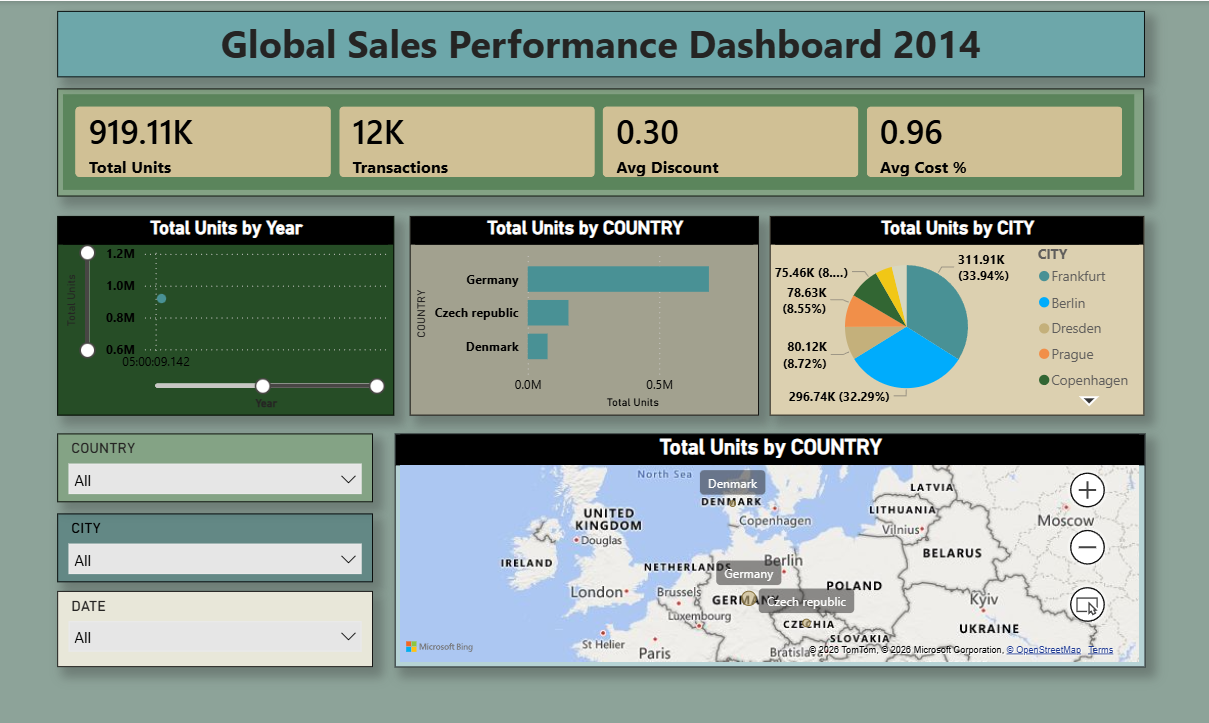

The dashboard page shown, as its layout file describes it:
{"tool":"powerbi","page":{"name":"Page 1","canvas":[1280,720],"ordinal":0},"visuals":[{"type":"cardVisual","fields":{"Data":["SALES_2014.Total Units","SALES_2014.Transactions","SALES_2014.Avg Discount","SALES_2014.Avg Cost %"]},"box":[104.3,85.1,1063.5,105.7],"z":0},{"type":"textbox","box":[103.9,9.8,1063.9,64.8],"z":1000},{"type":"lineChart","fields":{"Category":["SALES_2014.DATE.Variation.Date Hierarchy.Year","SALES_2014.DATE.Variation.Date Hierarchy.Quarter","SALES_2014.DATE.Variation.Date Hierarchy.Month","SALES_2014.DATE.Variation.Date Hierarchy.Day"],"Y":["SALES_2014.Total Units"]},"box":[104.3,209.9,329.3,194.9],"z":2000},{"type":"clusteredBarChart","fields":{"Category":["SALES_2014.COUNTRY"],"Y":["SALES_2014.Total Units"]},"box":[448.7,209.9,341.7,194.9],"z":3000},{"type":"pieChart","fields":{"Category":["SALES_2014.CITY"],"Y":["SALES_2014.Total Units"]},"box":[801.4,209.9,366.4,194.9],"z":4000},{"type":"slicer","fields":{"Values":["SALES_2014.COUNTRY"]},"box":[104.3,422.6,308.7,67.2],"z":5000},{"type":"slicer","fields":{"Values":["SALES_2014.CITY"]},"box":[104.3,500.9,308.7,67.2],"z":6000},{"type":"slicer","fields":{"Values":["SALES_2014.DATE"]},"box":[104.3,577.7,308.7,74.1],"z":7000},{"type":"map","fields":{"Category":["SALES_2014.COUNTRY"],"Size":["SALES_2014.Total Units"]},"box":[433.6,422.6,734.1,229.2],"z":8000}]}

Visuals, with their boxes on the page's 1280x720 design canvas (x1, y1, x2, y2). These are canvas units, not pixel positions in the 1209x723 screenshot, which may show the page scaled, cropped or inside an application window:
cardVisual - SALES_2014.Total Units x SALES_2014.Transactions: x1=104 y1=85 x2=1168 y2=191
textbox: x1=104 y1=10 x2=1168 y2=75
lineChart - SALES_2014.DATE.Variation.Date Hierarchy.Year x SALES_2014.DATE.Variation.Date Hierarchy.Quarter: x1=104 y1=210 x2=434 y2=405
clusteredBarChart - SALES_2014.COUNTRY x SALES_2014.Total Units: x1=449 y1=210 x2=790 y2=405
pieChart - SALES_2014.CITY x SALES_2014.Total Units: x1=801 y1=210 x2=1168 y2=405
slicer - SALES_2014.COUNTRY: x1=104 y1=423 x2=413 y2=490
slicer - SALES_2014.CITY: x1=104 y1=501 x2=413 y2=568
slicer - SALES_2014.DATE: x1=104 y1=578 x2=413 y2=652
map - SALES_2014.COUNTRY x SALES_2014.Total Units: x1=434 y1=423 x2=1168 y2=652
